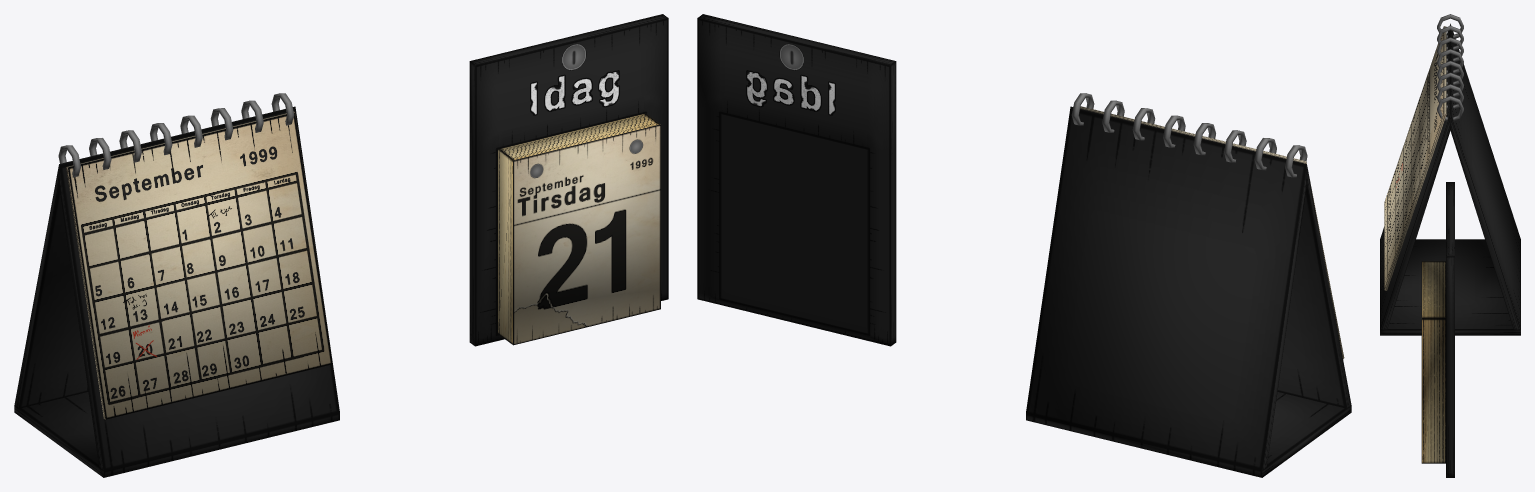
Rendered from Calendars_lvl1.fbx.
The picture shows the model from 3 angles, left to right: view 1: azimuth 30°, elevation 25°; view 2: azimuth 150°, elevation 25°; view 3: azimuth 270°, elevation 25°; orthographic projection. The views are drawn at different scales.
Visible parts, largest first — view 1: Calendar_DadsRoom, Calendar_Kitchen; view 2: Calendar_DadsRoom, Calendar_Kitchen; view 3: Calendar_DadsRoom, Calendar_Kitchen.
Part boxes in pixels (x1,y1,x2,y2): Calendar_DadsRoom: (14,93,339,477); Calendar_Kitchen: (469,14,668,346); Calendar_DadsRoom: (1026,93,1351,477); Calendar_Kitchen: (697,14,896,346); Calendar_DadsRoom: (1380,14,1520,335); Calendar_Kitchen: (1421,182,1454,477).
Size of the model in its own units: 1.08 by 0.5066 by 0.2765.
